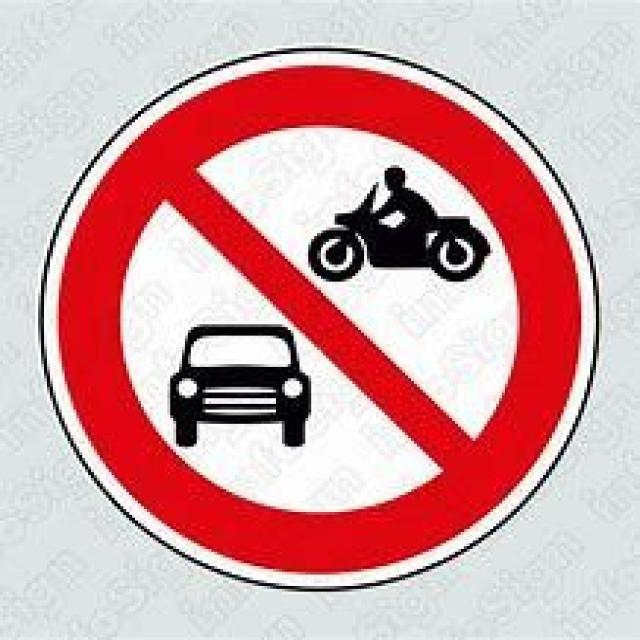all motor vehicle prohibited: (37, 44, 598, 591)
